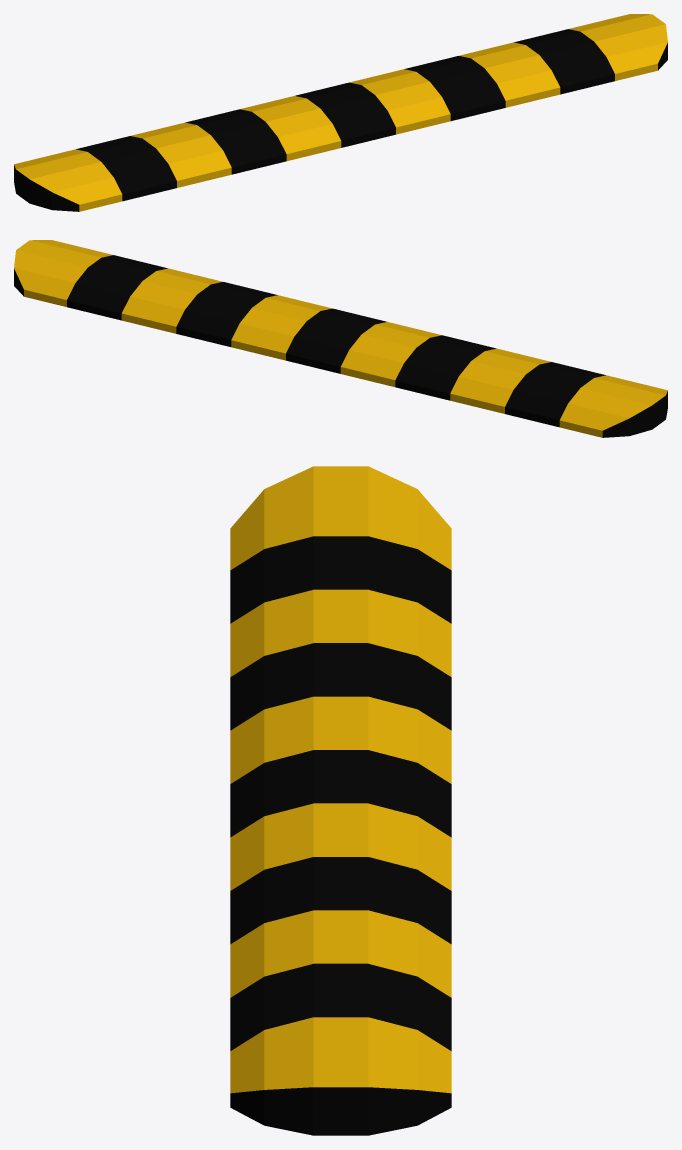
Rendered from 减速带.fbx.
The picture shows the model from 3 angles, top to bottom: view 1: azimuth 30°, elevation 25°; view 2: azimuth 150°, elevation 25°; view 3: azimuth 270°, elevation 25°; orthographic projection. The views are drawn at different scales.
Visible parts, largest first — view 1: 柱体; view 2: 柱体; view 3: 柱体.
Part boxes in pixels (box(x1,y1,x2,y2)): 柱体: box(14, 14, 667, 211); 柱体: box(14, 240, 667, 437); 柱体: box(230, 466, 451, 1135).
Size of the model in its own units: 1195 by 43.53 by 180.
